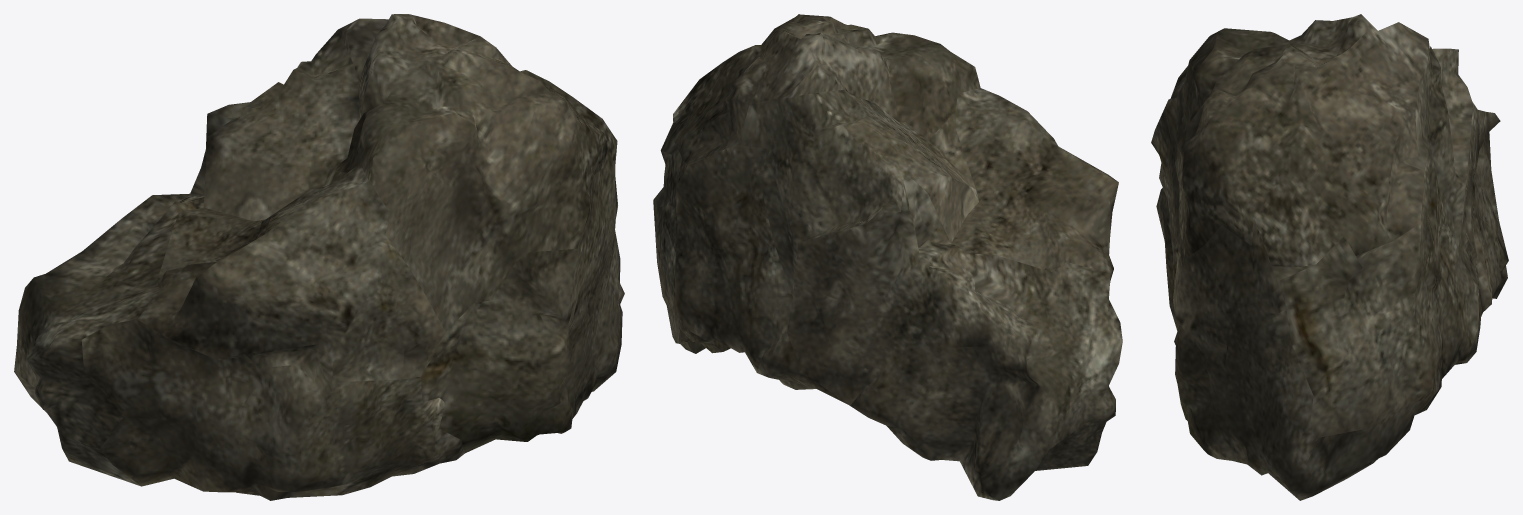
The model's file is Stone2.fbx.
3 views of the same model, side by side, from view 1: azimuth 30°, elevation 25°; view 2: azimuth 150°, elevation 25°; view 3: azimuth 270°, elevation 25° (orthographic). The views are drawn at different scales.
Visible parts, largest first — view 1: SM_Hti_Rock01.mo; view 2: SM_Hti_Rock01.mo; view 3: SM_Hti_Rock01.mo.
Part boxes in pixels (left/top/right/bottom): SM_Hti_Rock01.mo: left=14, top=14, right=624, bottom=500; SM_Hti_Rock01.mo: left=653, top=14, right=1122, bottom=500; SM_Hti_Rock01.mo: left=1151, top=14, right=1508, bottom=500.
Size of the model in its own units: 269 by 188 by 151.
